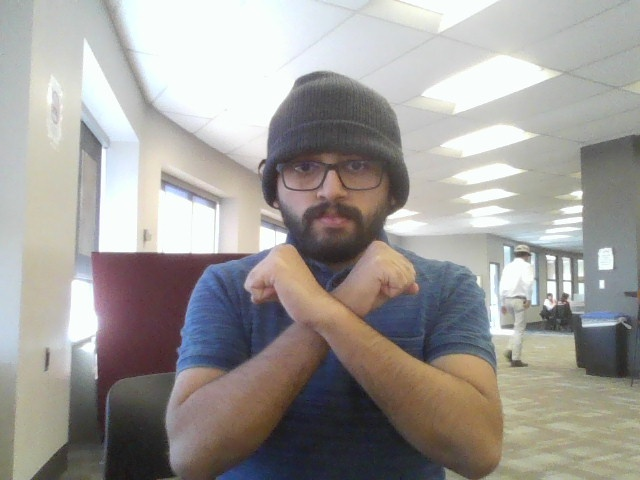start: (228, 235, 452, 445)
